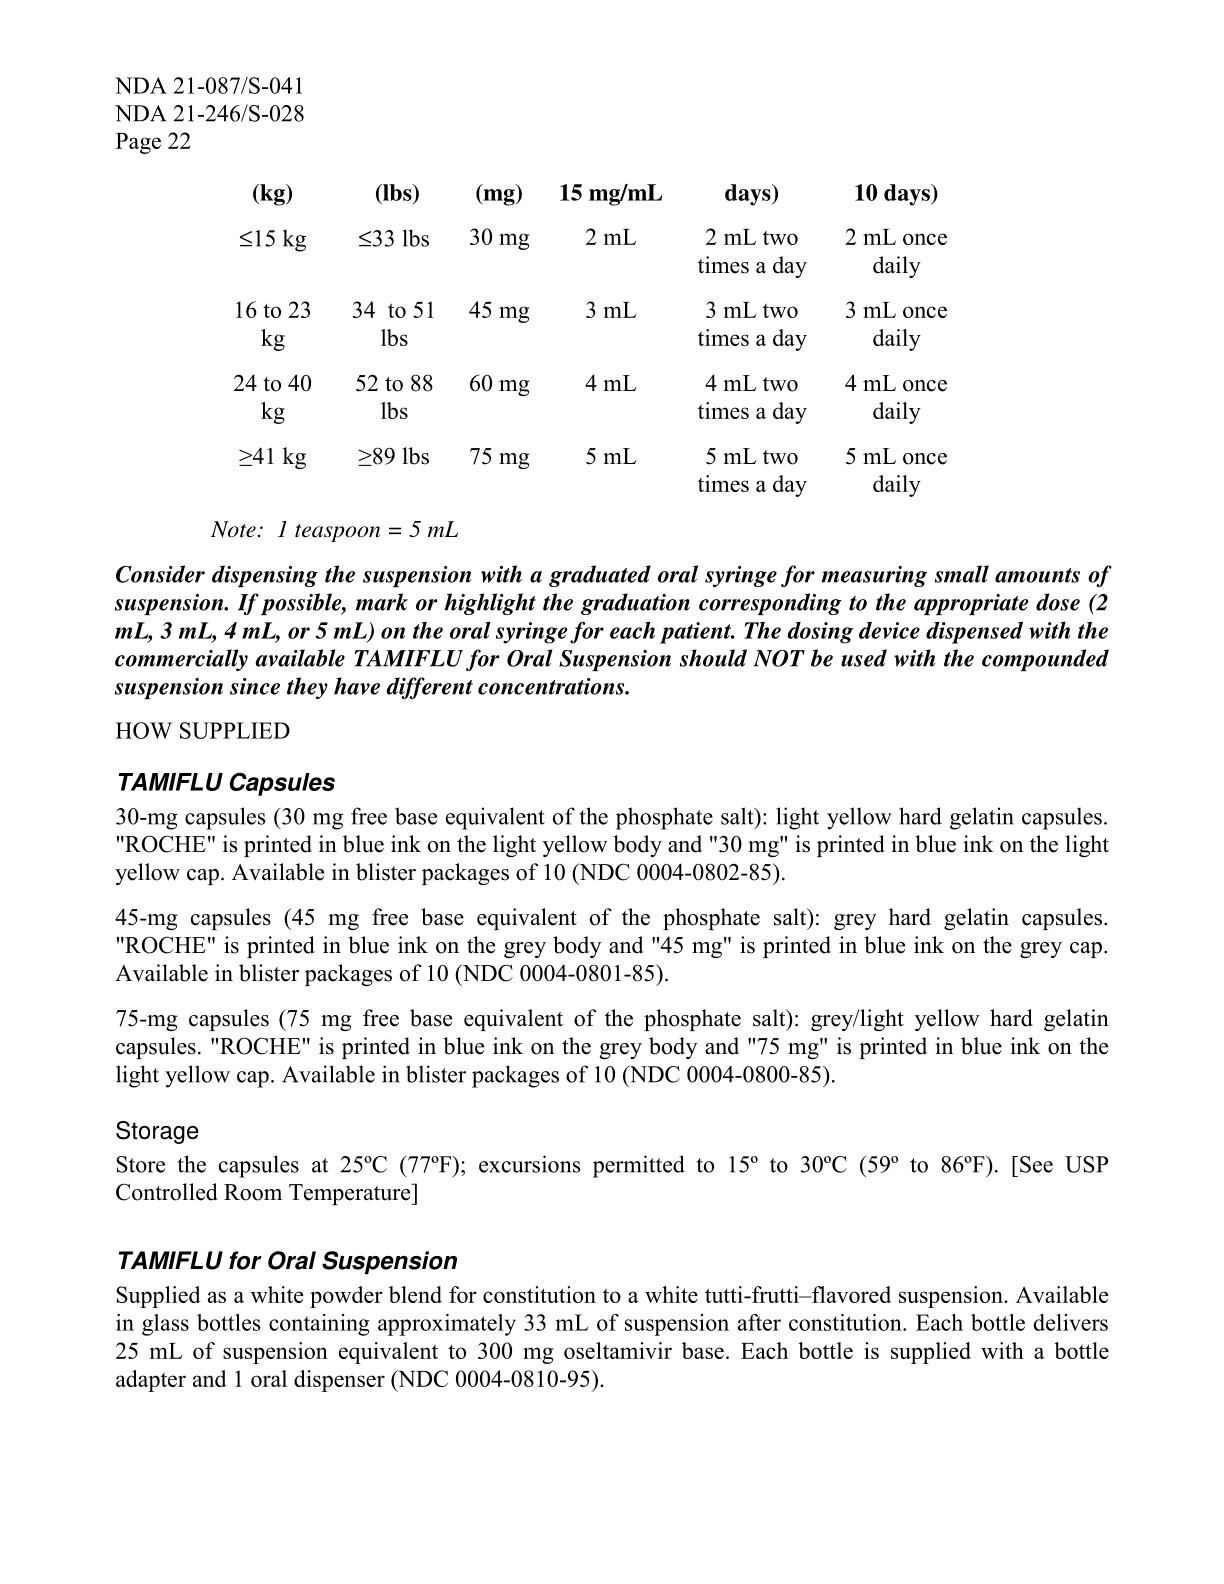nolines: (231, 177, 954, 495)
